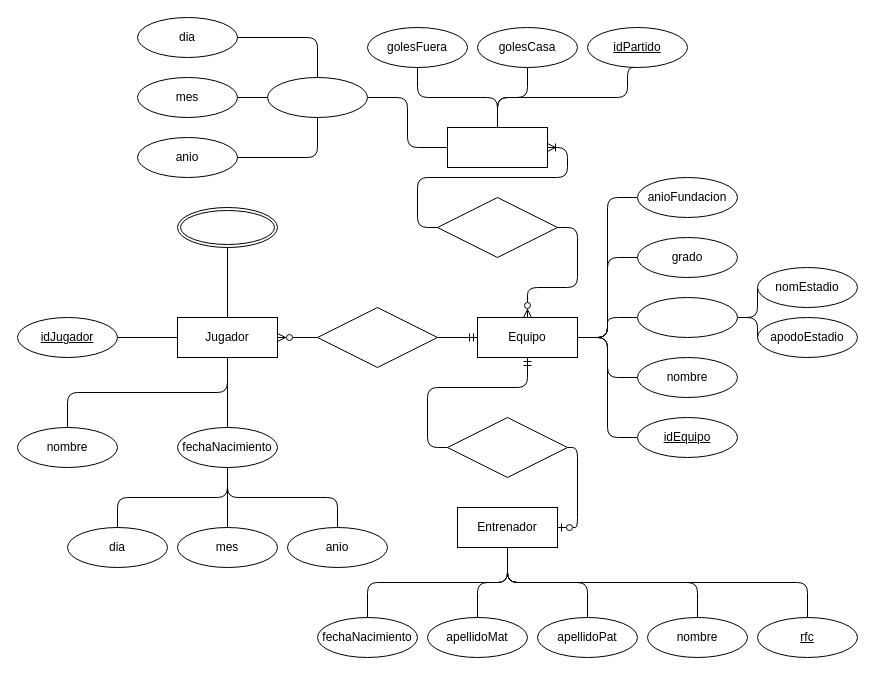
Image size: 875x675. Some labels were removed from this diagram. The shapes that lost their labels are listed below. From the top down, each one's centre as x and y in pixels, then its label:
At point 317,97: "fecha".
At point 497,147: "Partido".
At point 227,227: "posicion".
At point 497,227: "Juega".
At point 377,337: "Pertenece".
At point 687,317: "estadio".
At point 507,447: "Entrena".
